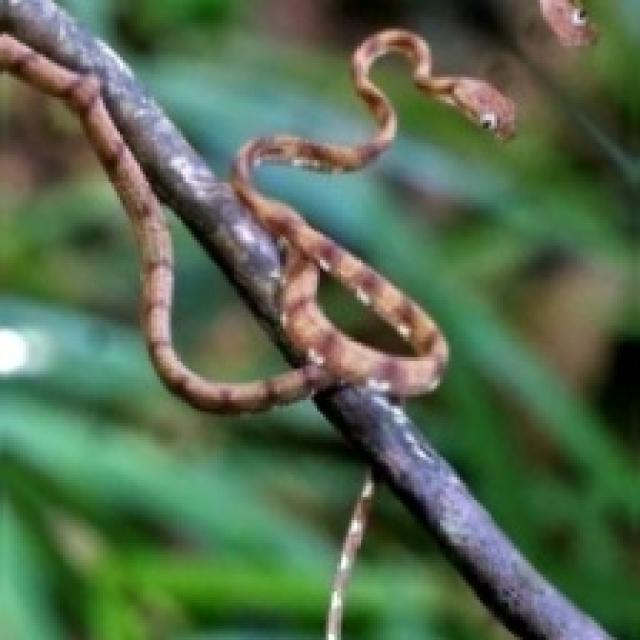philippine blunt-headed catsnake: (0, 26, 511, 411)
